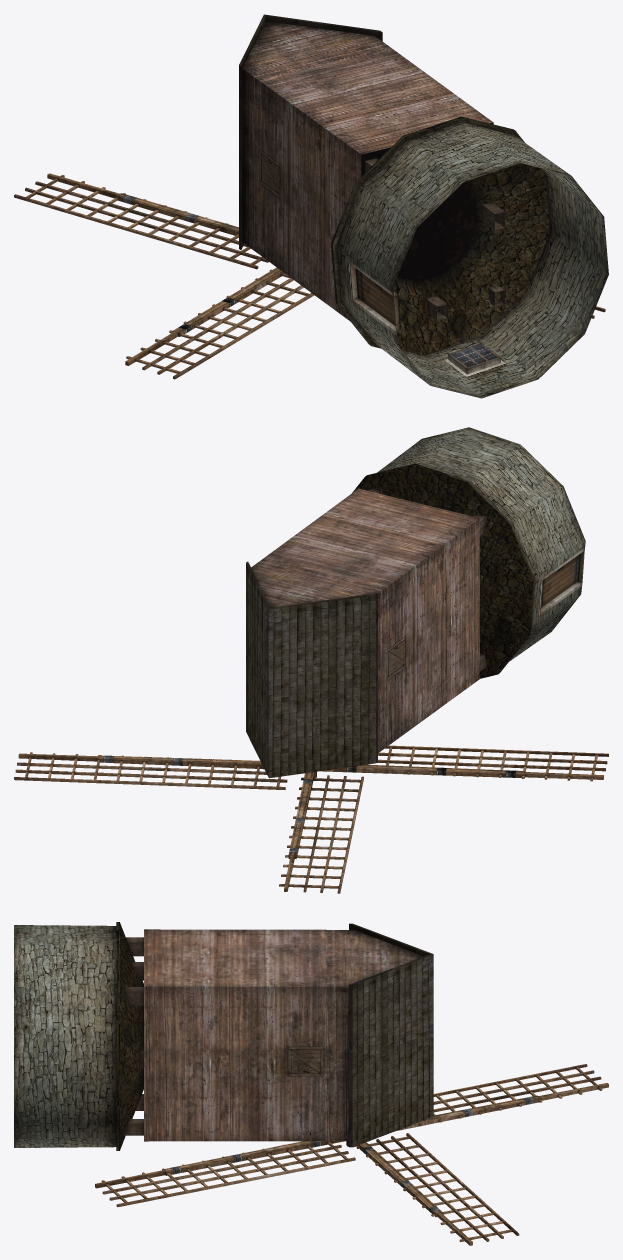
File: windmill.FBX
3 views of the same model, one above another, from view 1: azimuth 30°, elevation 25°; view 2: azimuth 150°, elevation 25°; view 3: azimuth 270°, elevation 25° (orthographic). The views are drawn at different scales.
Visible parts, largest first — view 1: WindMillj; view 2: WindMillj; view 3: WindMillj.
Boxes of the visible parts, <box> form: WindMillj: <box>14,14,608,398</box>; WindMillj: <box>14,427,608,893</box>; WindMillj: <box>14,922,608,1245</box>.
Size of the model in its own units: 133 by 60.32 by 154.
